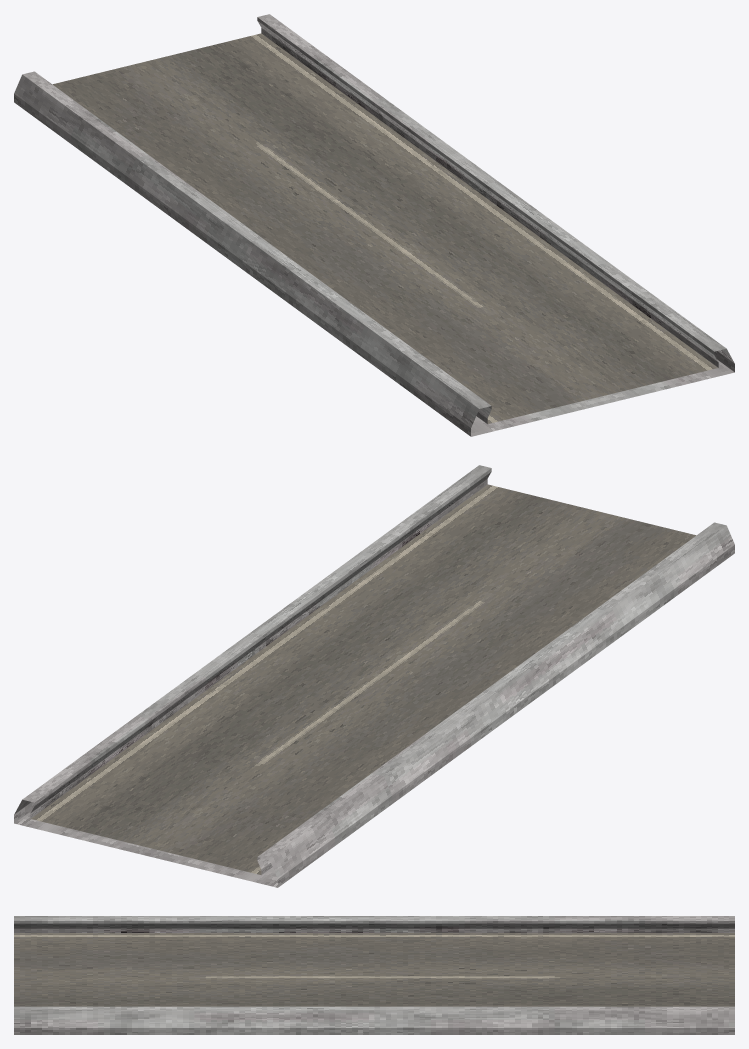
The model's file is road-Straight-Flat-Flat-Even-Center-Size3.glb.
The picture shows the model from 3 angles, top to bottom: view 1: azimuth 30°, elevation 25°; view 2: azimuth 150°, elevation 25°; view 3: azimuth 270°, elevation 25°; orthographic projection. The views are drawn at different scales.
Visible parts, largest first — view 1: road-Straight-Flat-Flat-Even-Center-Size3; view 2: road-Straight-Flat-Flat-Even-Center-Size3; view 3: road-Straight-Flat-Flat-Even-Center-Size3.
Boxes of the visible parts, x1,y1,x2,y2 form: road-Straight-Flat-Flat-Even-Center-Size3: (14,14,734,436); road-Straight-Flat-Flat-Even-Center-Size3: (14,465,734,887); road-Straight-Flat-Flat-Even-Center-Size3: (14,916,734,1034).
Size of the model in its own units: 1 by 0.0938 by 3.
2 materials, 2 textured.
